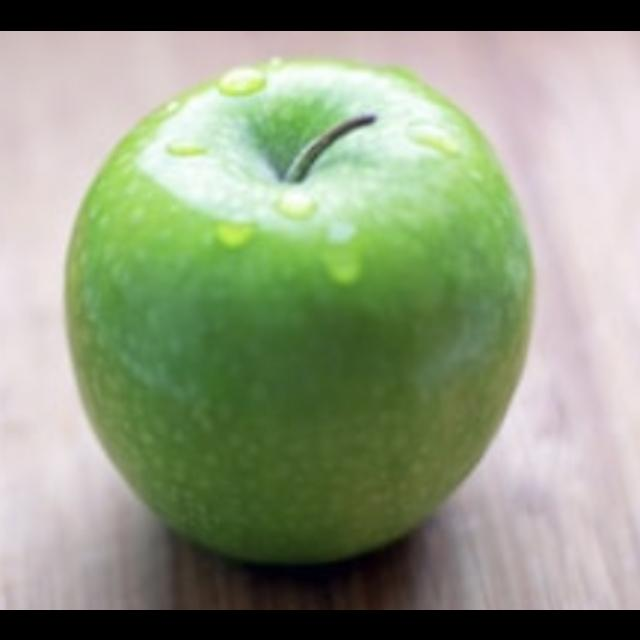Apel Segar: (46, 56, 568, 560)
